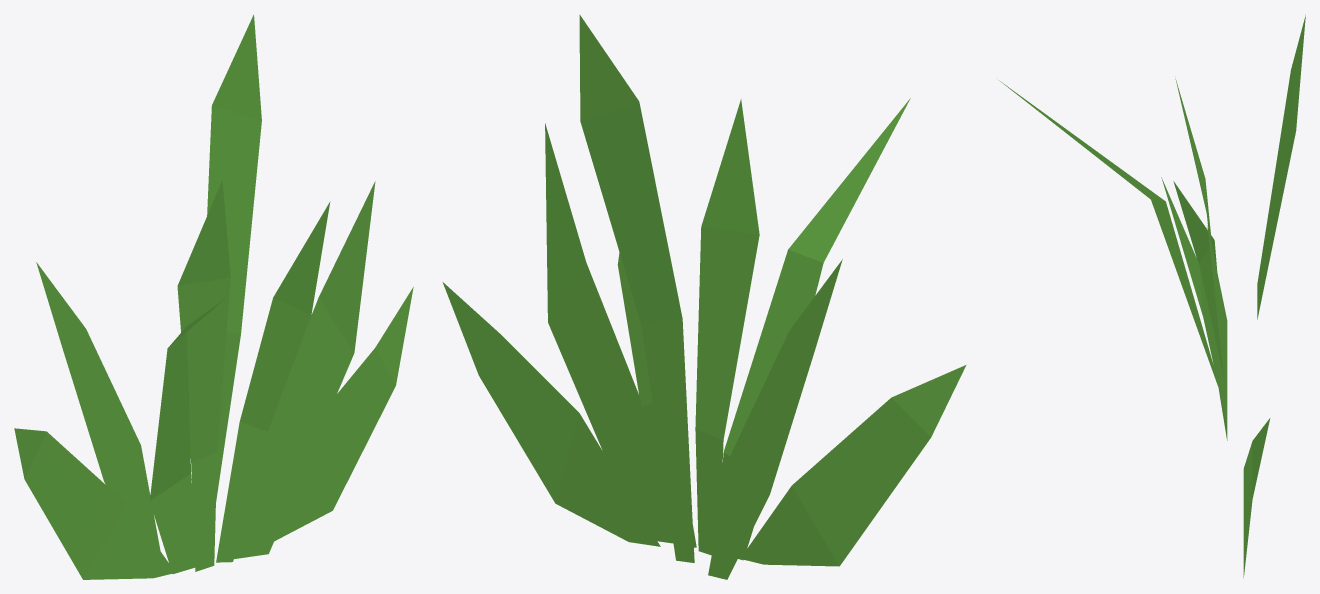
The model's file is grass-basic.glb.
3 renders of one model, left to right at view 1: azimuth 30°, elevation 25°; view 2: azimuth 150°, elevation 25°; view 3: azimuth 270°, elevation 25°, orthographic. The views are drawn at different scales.
Parts seen in each view (by area): view 1: grass-basic; view 2: grass-basic; view 3: grass-basic.
Boxes of the visible parts, x1,y1,x2,y2 form: grass-basic: (14,14,413,579); grass-basic: (442,14,966,579); grass-basic: (999,14,1305,577).
Bounding box in the file's own units: 1.04 × 1.14 × 0.5743.
1 material, 1 textured.
